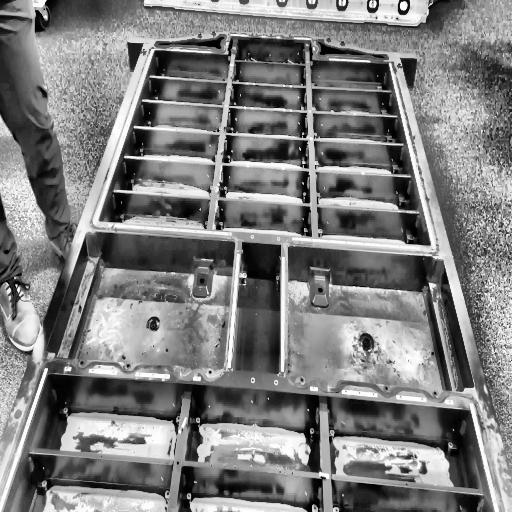b_casing: (0, 29, 512, 512)
